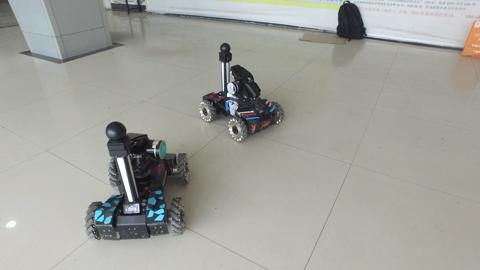chariot: (83, 119, 190, 244), (196, 40, 286, 145)
